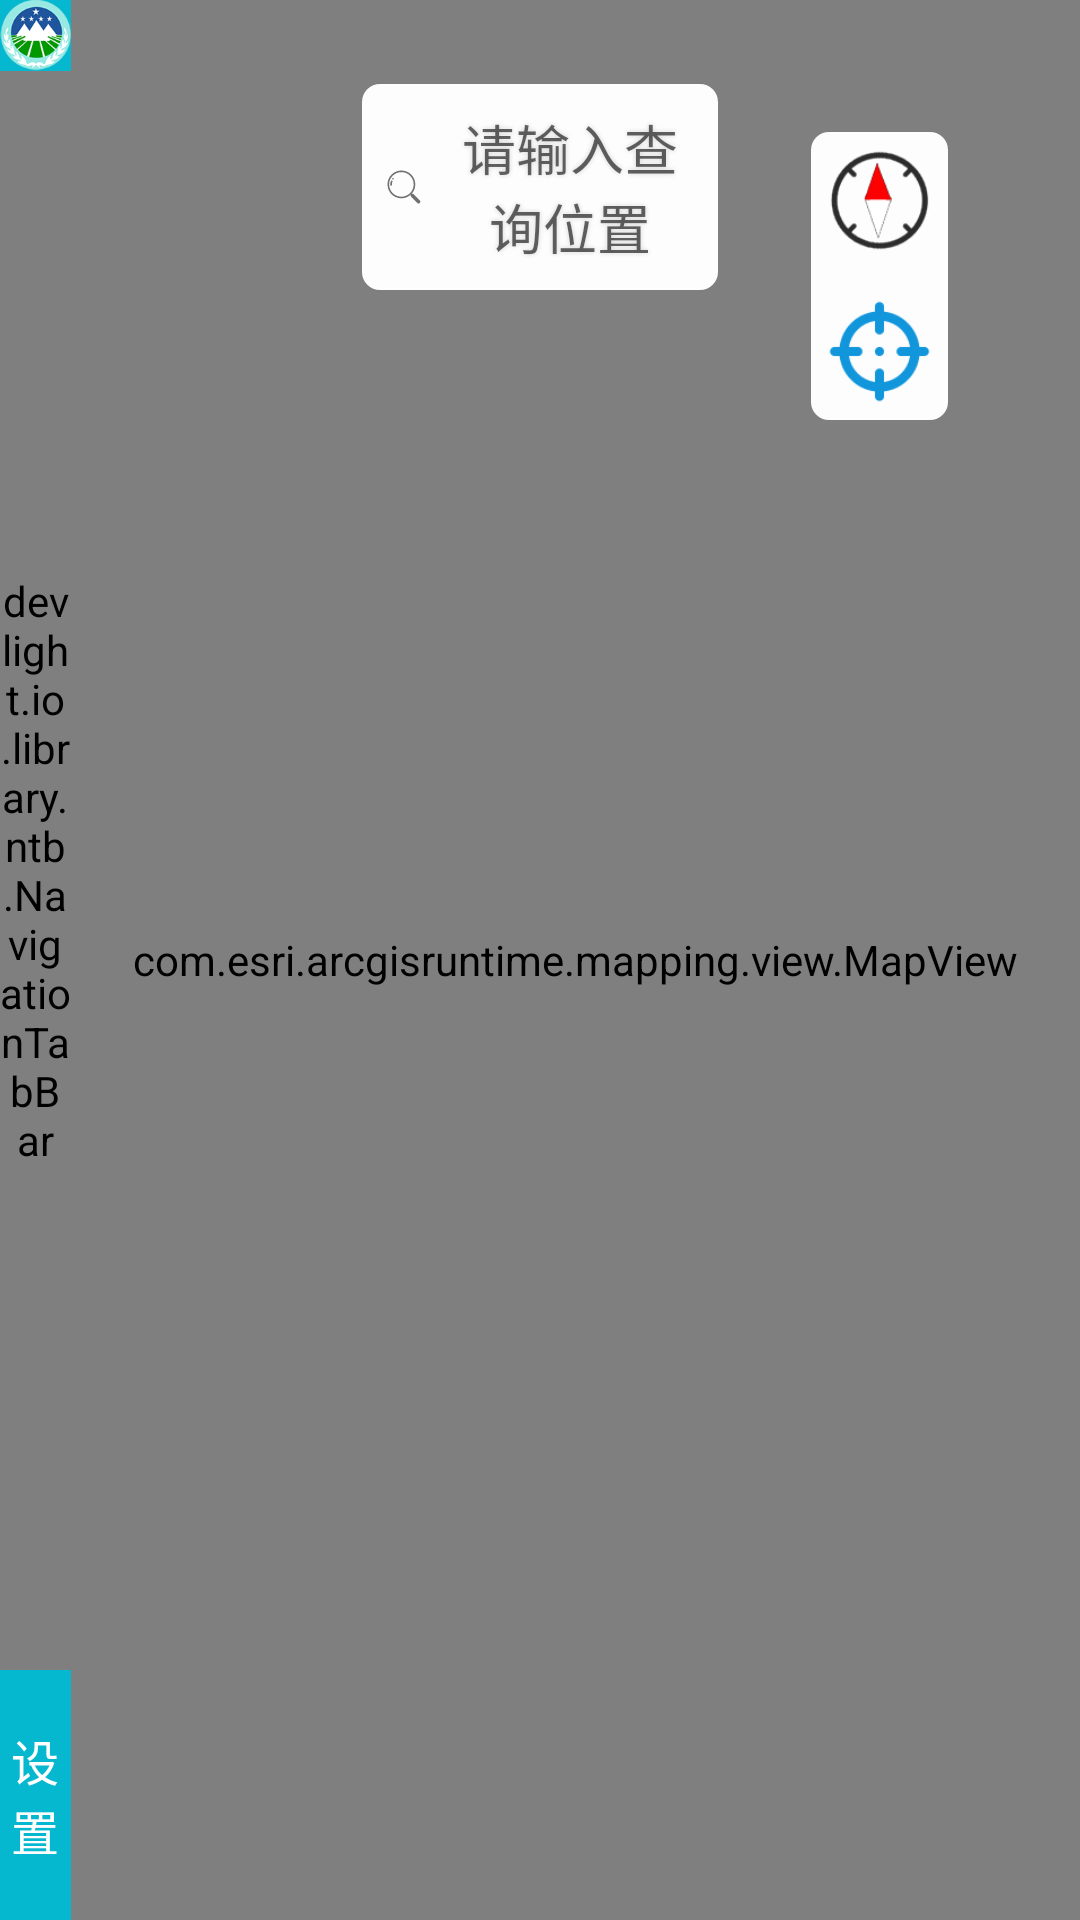

Named icons in this screenshot (1080 × 1920) and their centers, (x=x, y=y):
map tool compass: (x=879, y=200)
map tool location: (x=879, y=351)
